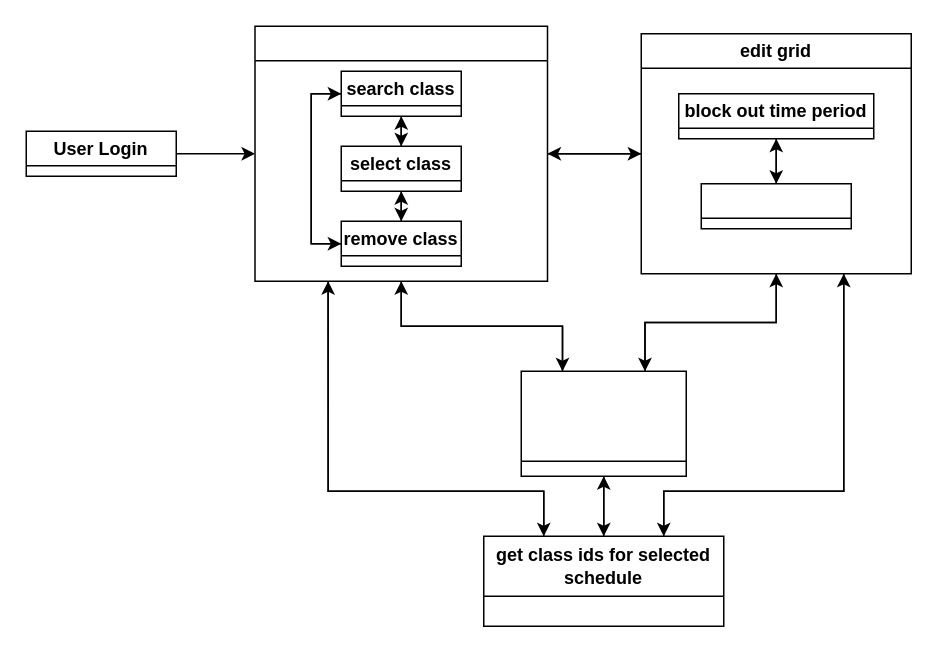
Image size: 938x653. Some labels were removed from this diagram. The box of each missing label's shape, as (x1, y1, x2, y2) in pixels:
Class search/select/remove: (254, 25, 548, 281)
look through permutations of all possible class schedules: (520, 370, 686, 476)
pin class: (700, 182, 851, 229)
